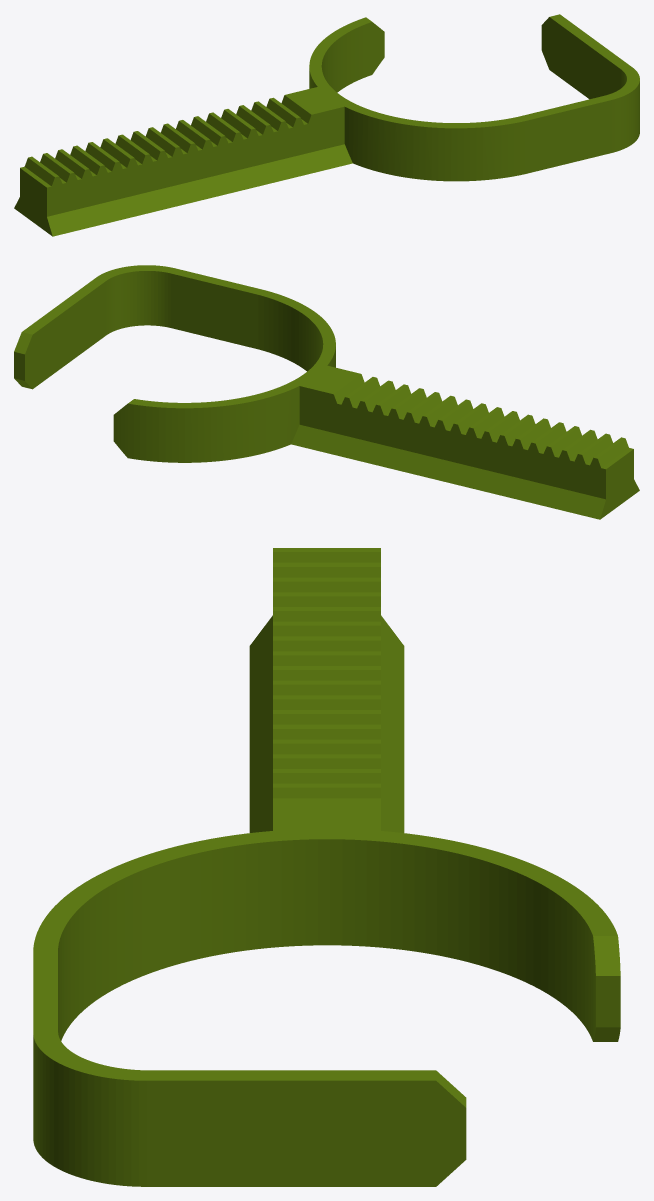
File: dispenser-arm__v0.glb
3 renders of one model, top to bottom at view 1: azimuth 30°, elevation 25°; view 2: azimuth 150°, elevation 25°; view 3: azimuth 270°, elevation 25°, orthographic. The views are drawn at different scales.
Parts seen in each view (by area): view 1: dispenser-arm; view 2: dispenser-arm; view 3: dispenser-arm.
Part boxes in pixels (<box>): dispenser-arm: <box>14,14,639,236</box>; dispenser-arm: <box>14,265,639,519</box>; dispenser-arm: <box>33,548,620,1186</box>.
Size of the model in its own units: 0.1093 by 0.01 by 0.0502.
